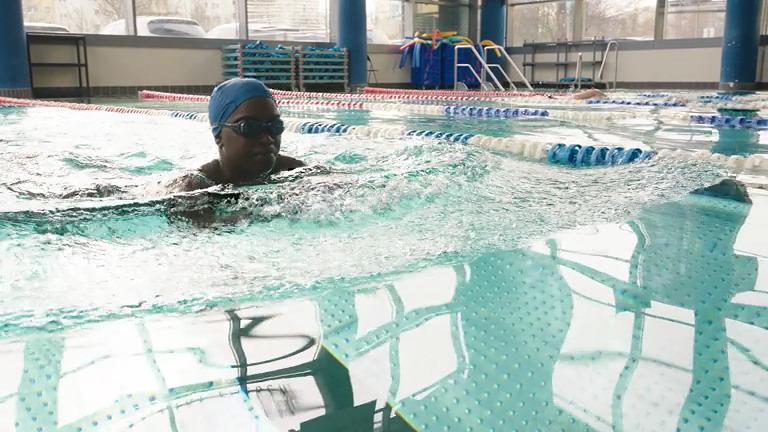Swimming: (48, 34, 401, 246)
